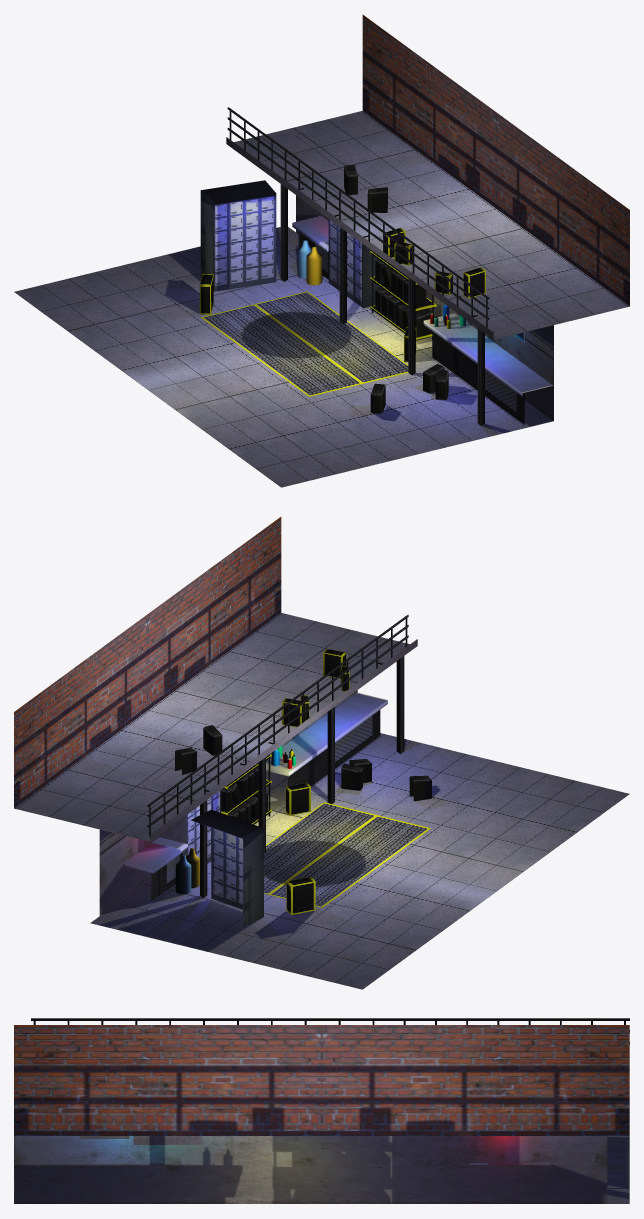
The model's file is Garage.fbx.
3 views of the same model, one above another, from view 1: azimuth 30°, elevation 25°; view 2: azimuth 150°, elevation 25°; view 3: azimuth 270°, elevation 25° (orthographic). The views are drawn at different scales.
Parts seen in each view (by area): view 1: Garage; view 2: Garage; view 3: Garage.
Part boxes in pixels (x1,y1,x2,y2): Garage: (14,15,629,487); Garage: (14,517,629,989); Garage: (14,1018,629,1203).
Size of the model in its own units: 128 by 68.82 by 170.
1 material, 1 textured.
